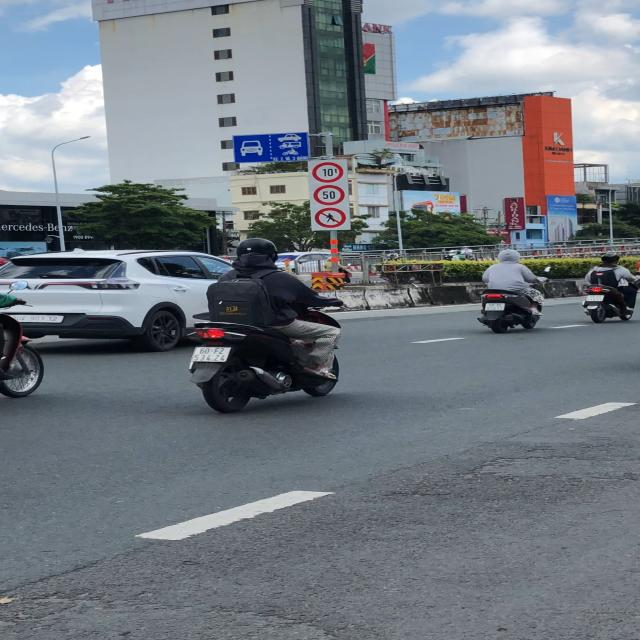Bien bao toc do toi da cho phep: (311, 184, 347, 207)
